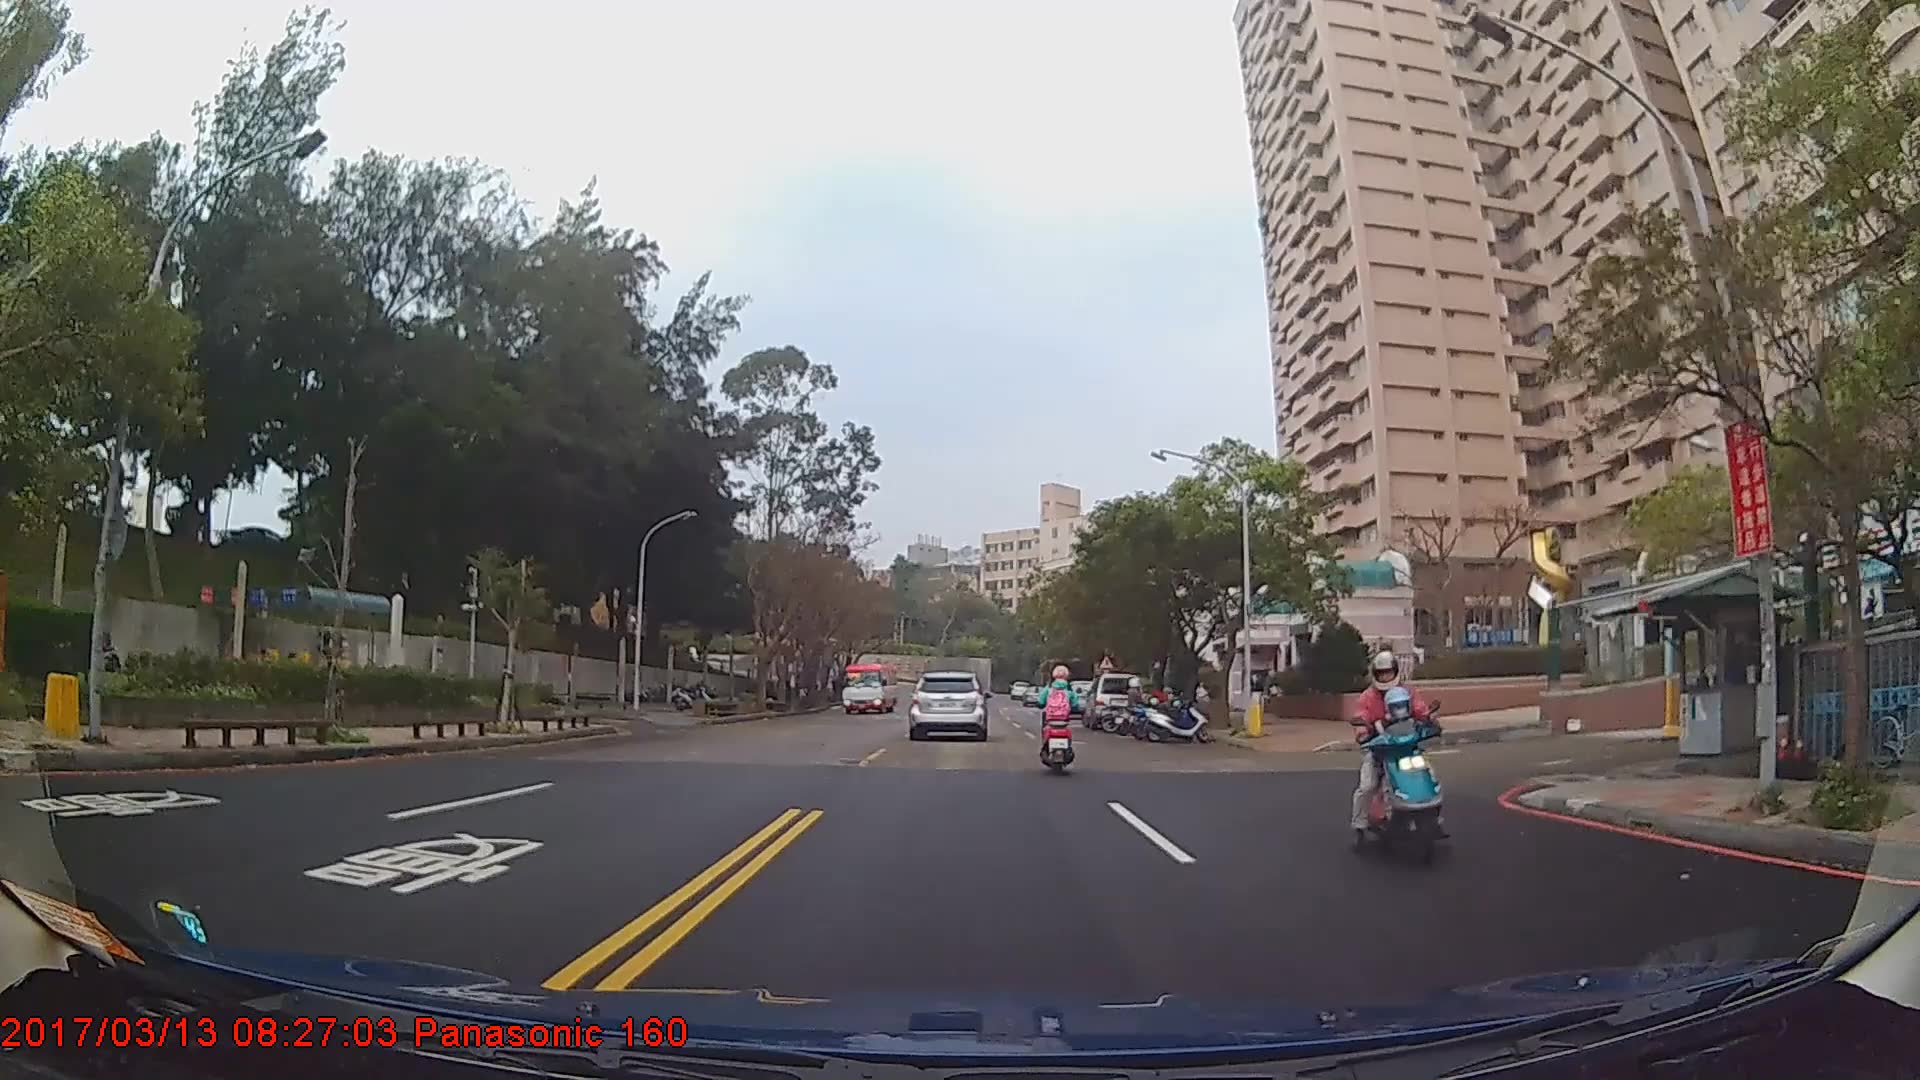rider: (1347, 657, 1441, 859), (1036, 663, 1081, 787), (1115, 676, 1153, 738)
vehicle: (907, 670, 986, 745), (1082, 673, 1143, 730), (840, 663, 900, 716)
